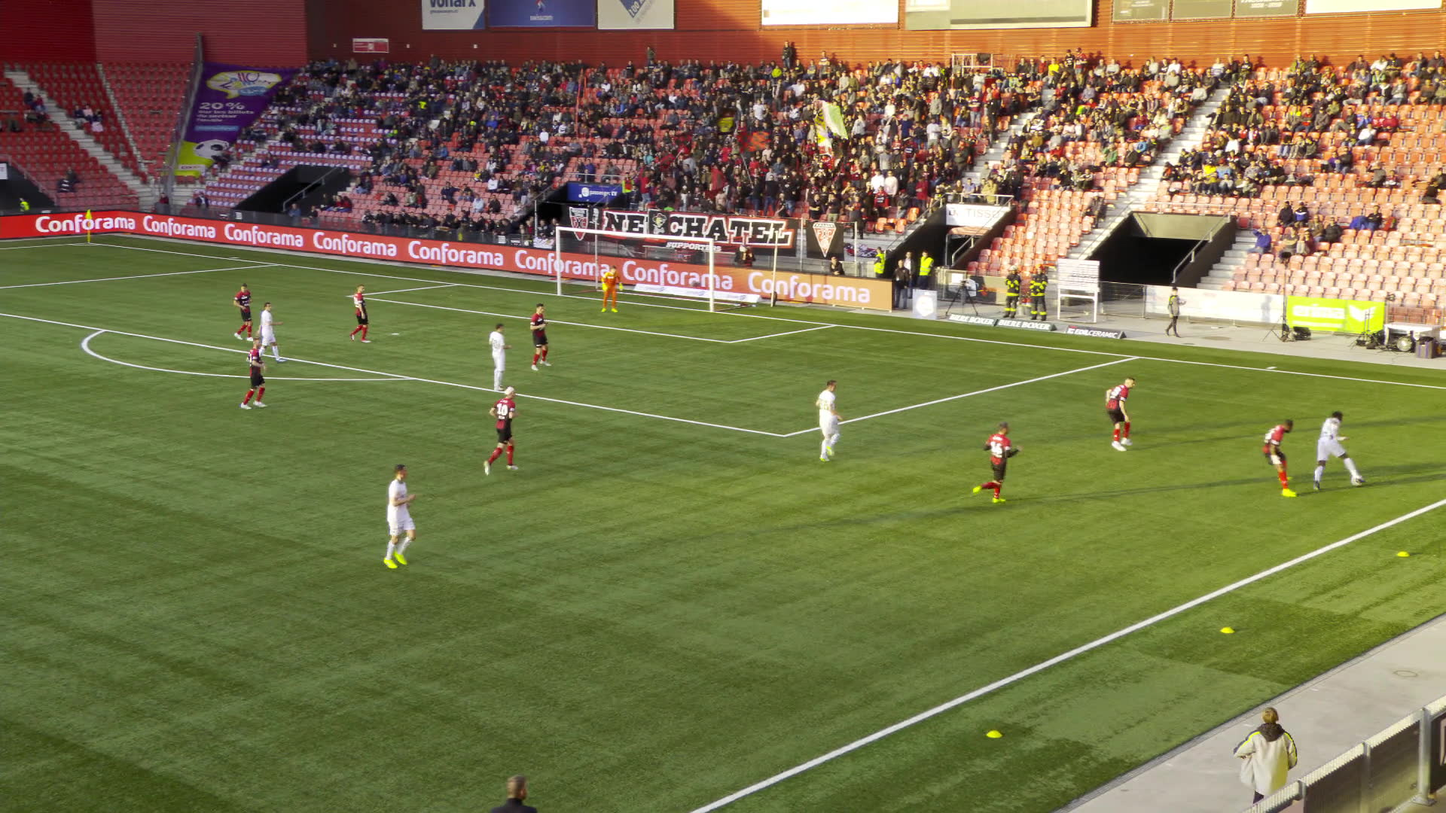ball: (1350, 475, 1360, 486)
player: (371, 461, 422, 570), (1302, 409, 1359, 486), (972, 422, 1016, 506), (1253, 417, 1298, 495), (484, 388, 522, 474), (1100, 379, 1139, 452), (811, 381, 845, 462), (233, 336, 270, 409), (258, 301, 284, 364), (529, 303, 552, 371), (489, 323, 512, 390), (350, 284, 372, 343), (234, 284, 254, 342), (600, 266, 624, 312)
